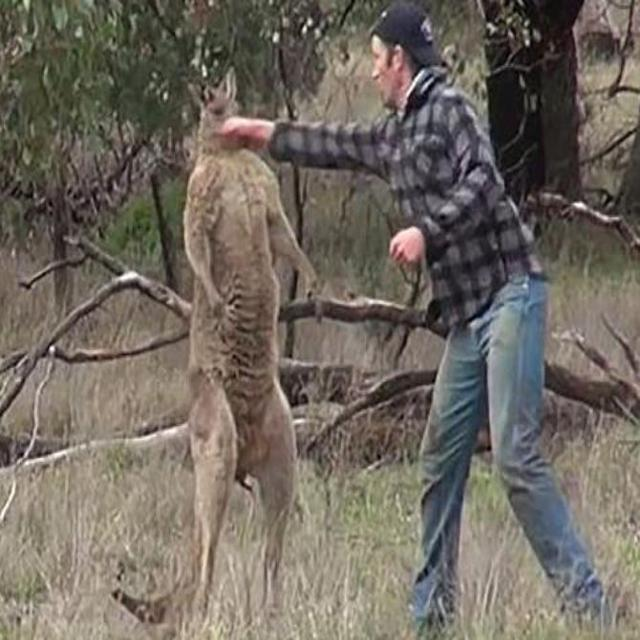kangaroo: (182, 77, 297, 615)
